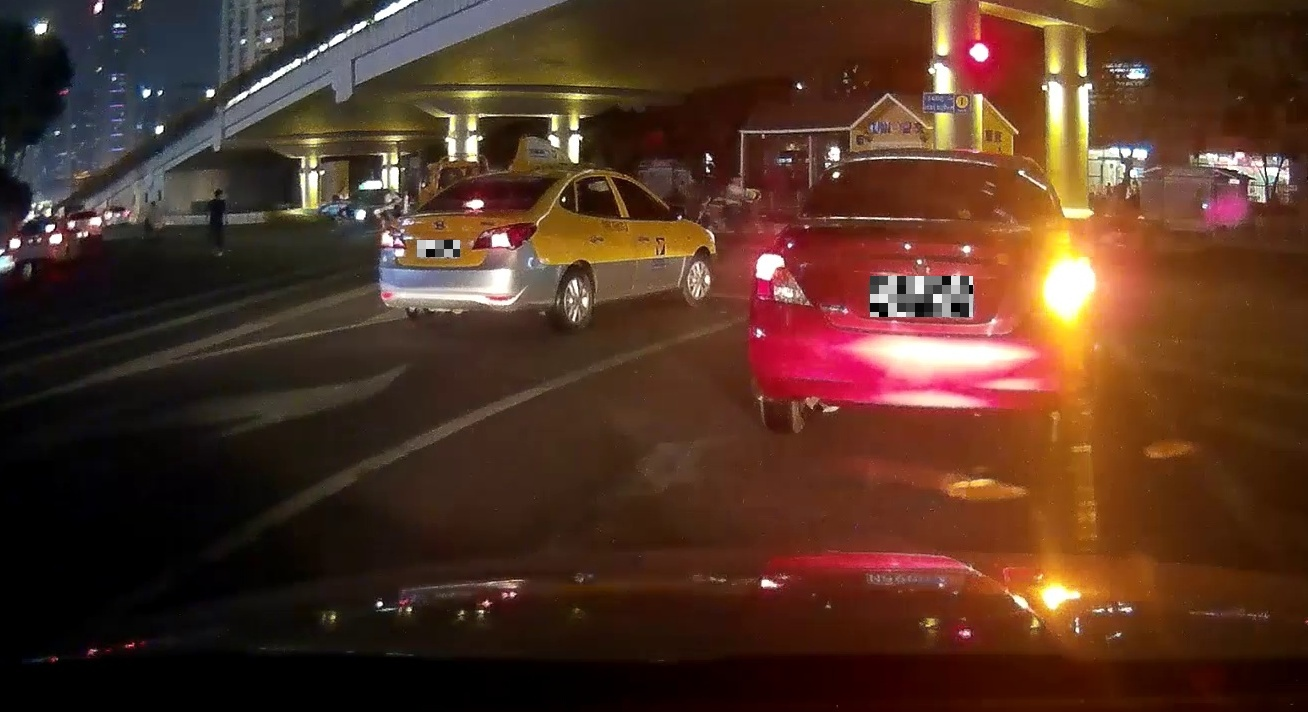L_light: (754, 252, 813, 306), (380, 225, 406, 247)
R_light: (1031, 259, 1088, 319), (471, 222, 536, 251)
T_light: (911, 158, 953, 169), (463, 199, 485, 209)
night-brake: (379, 167, 561, 329)
night-right: (747, 147, 1090, 446)
plate_1: (417, 240, 460, 257)
plate_2: (870, 276, 973, 317)
